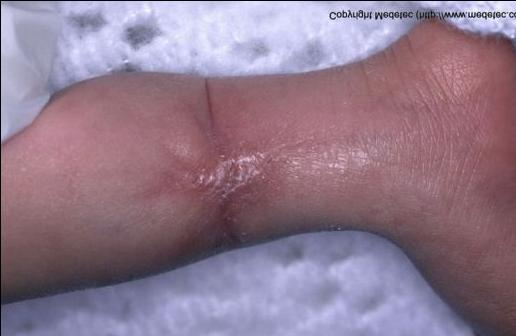NonPU: (145, 88, 304, 229)
